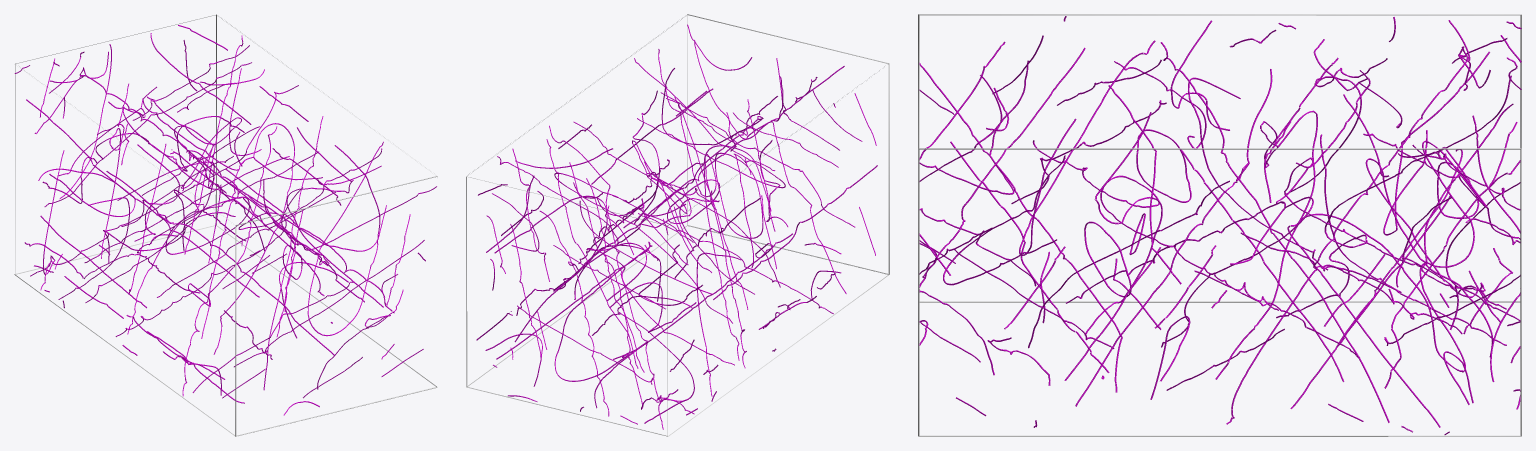
3 views of the same model, side by side, from view 1: azimuth 30°, elevation 25°; view 2: azimuth 150°, elevation 25°; view 3: azimuth 270°, elevation 25° (orthographic). The views are drawn at different scales.
Visible parts, largest first — view 1: Shape_IndexedLineSet.001, Shape_IndexedLineSet; view 2: Shape_IndexedLineSet.001, Shape_IndexedLineSet; view 3: Shape_IndexedLineSet.001, Shape_IndexedLineSet.
Boxes of the visible parts, x1=… form: Shape_IndexedLineSet.001: x1=14, y1=25, x2=436, y2=415; Shape_IndexedLineSet: x1=14, y1=14, x2=437, y2=436; Shape_IndexedLineSet.001: x1=476, y1=24, x2=877, y2=429; Shape_IndexedLineSet: x1=466, y1=14, x2=889, y2=436; Shape_IndexedLineSet.001: x1=919, y1=16, x2=1521, y2=434; Shape_IndexedLineSet: x1=918, y1=14, x2=1521, y2=436.
Bounding box in the file's own units: 237 × 237 × 449.
